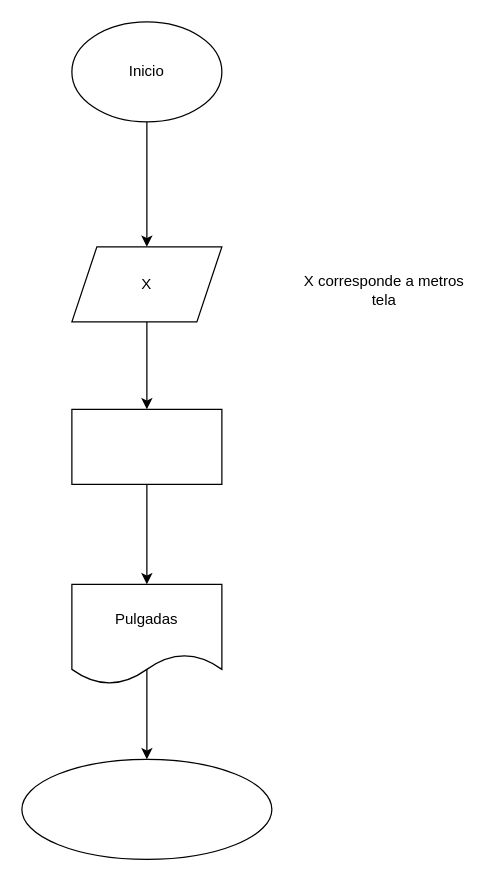
This 494x881 diagram has some shape labels left out. The shapes that lost their labels are listed below. From the top down, each one's box as (x1, y1, x2, y2) in pixels, then its label:
(71, 408, 222, 484): Pulgadas = X/0.0254
(21, 758, 272, 859): Fin
